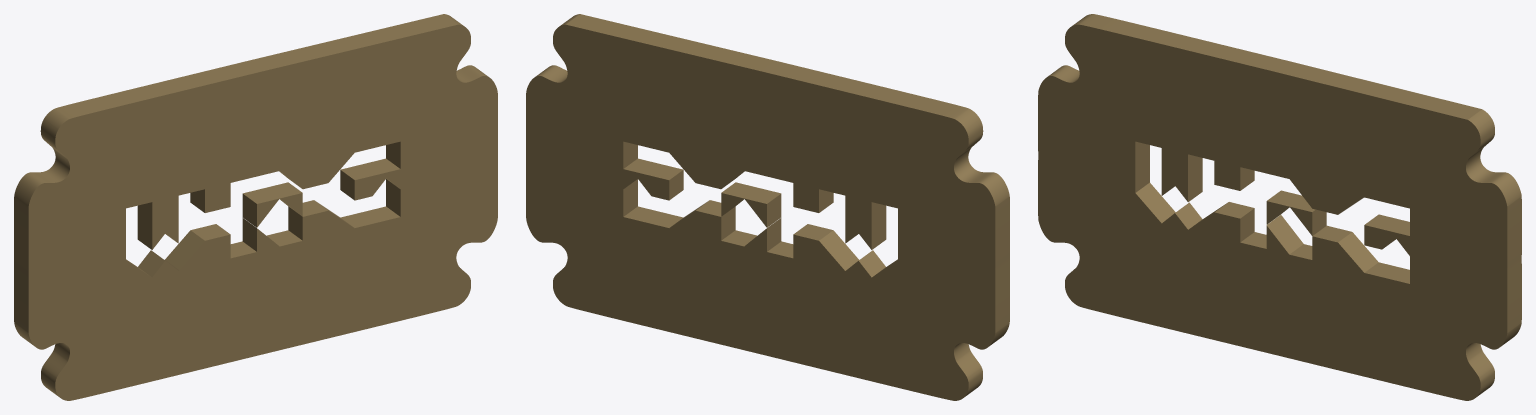
The model's file is bronze.glb.
3 renders of one model, left to right at view 1: azimuth 30°, elevation 25°; view 2: azimuth 150°, elevation 25°; view 3: azimuth 330°, elevation 25°, orthographic.
Visible parts, largest first — view 1: Razor; view 2: Razor; view 3: Razor.
Part boxes in pixels (x1=…): Razor: x1=14, y1=14, x2=497, y2=400; Razor: x1=526, y1=14, x2=1009, y2=400; Razor: x1=1038, y1=14, x2=1521, y2=400.
Bounding box in the file's own units: 0.5609 × 0.3234 × 0.03.
